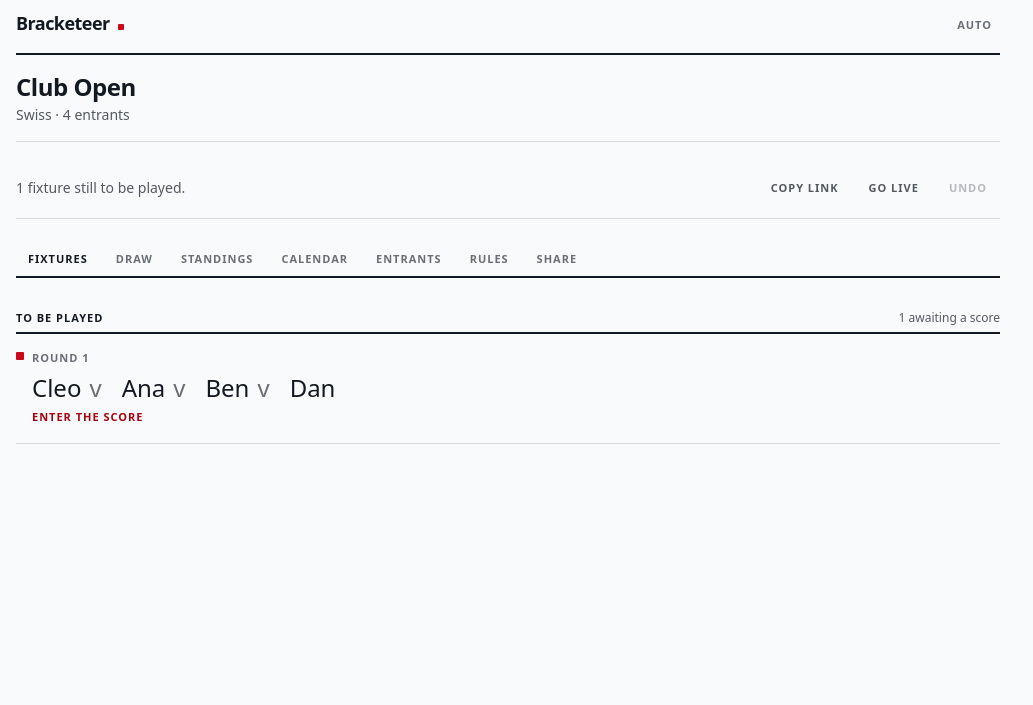
Test: recording a result, in every shape the rules can take › will not accept a heat where nobody finished
Click the button "Enter the score" at point(57, 387), box [16,372,1000,426]
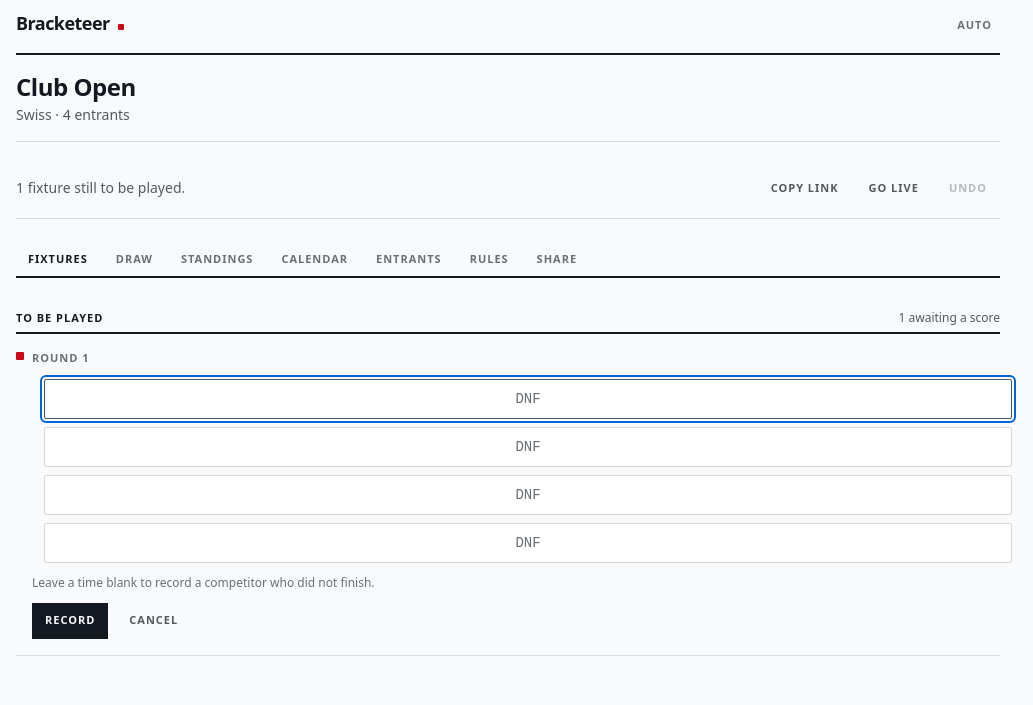
Click the button "Record" at point(70, 620), box [32,602,108,638]
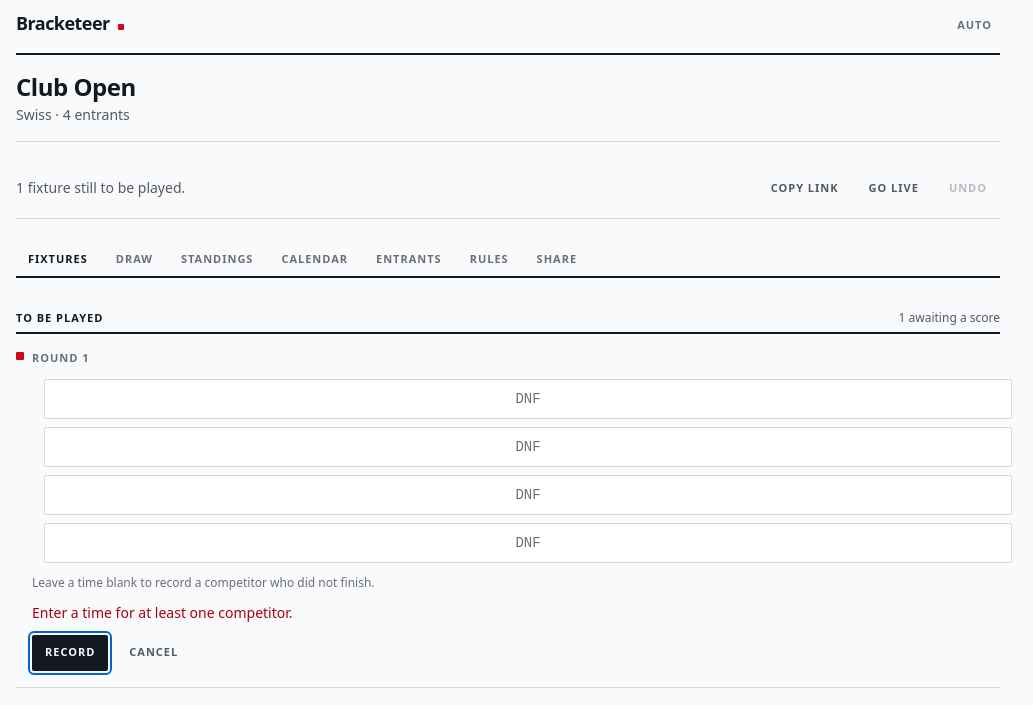
Expected: the message shows "at least one", [32,602,292,622]
